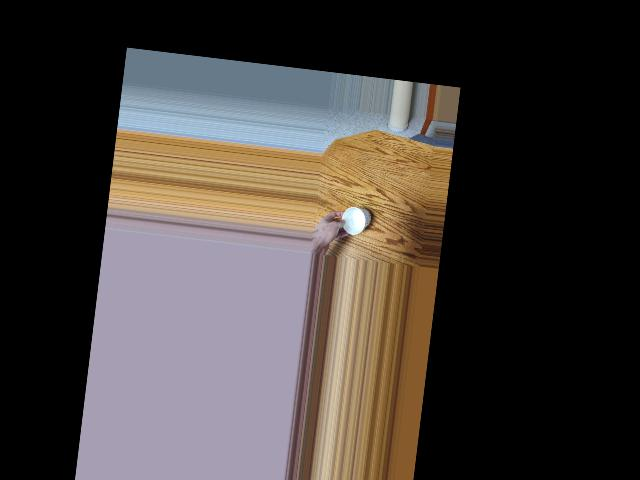cotage: (337, 205, 367, 238)
